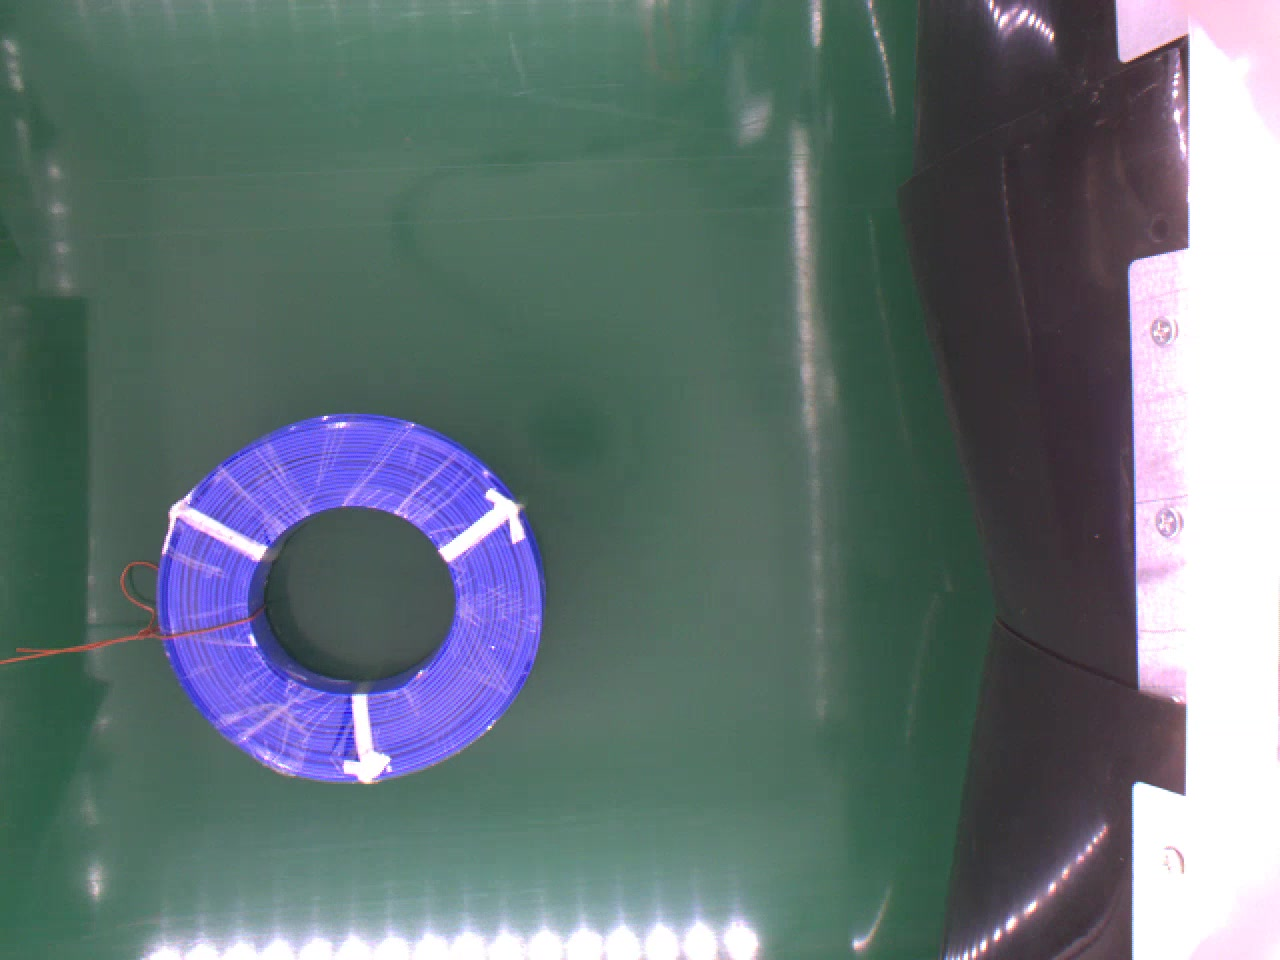blue: (151, 410, 546, 786)
